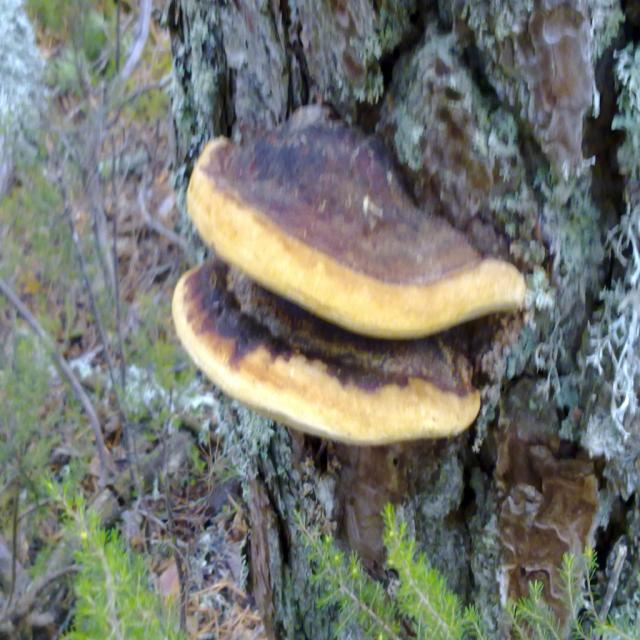Mushroom: (188, 104, 526, 340), (171, 262, 483, 448)
